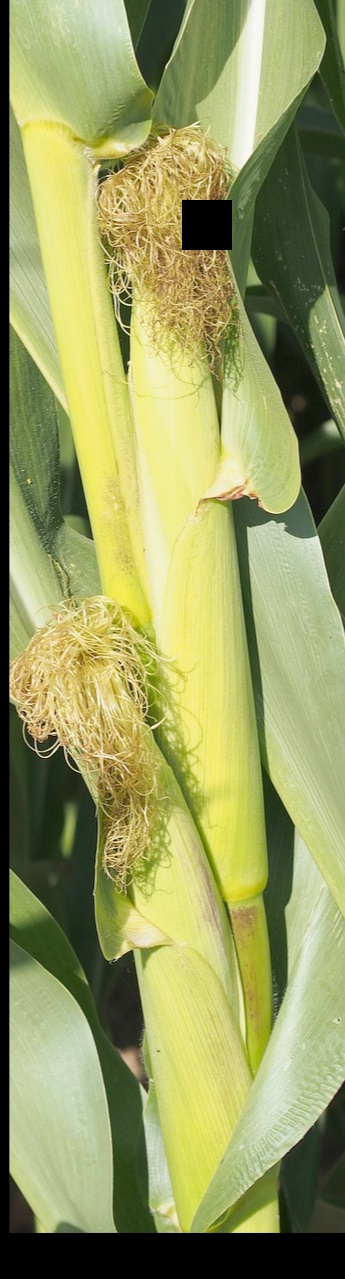corn_plant: (13, 629, 269, 1232), (89, 158, 276, 934)
